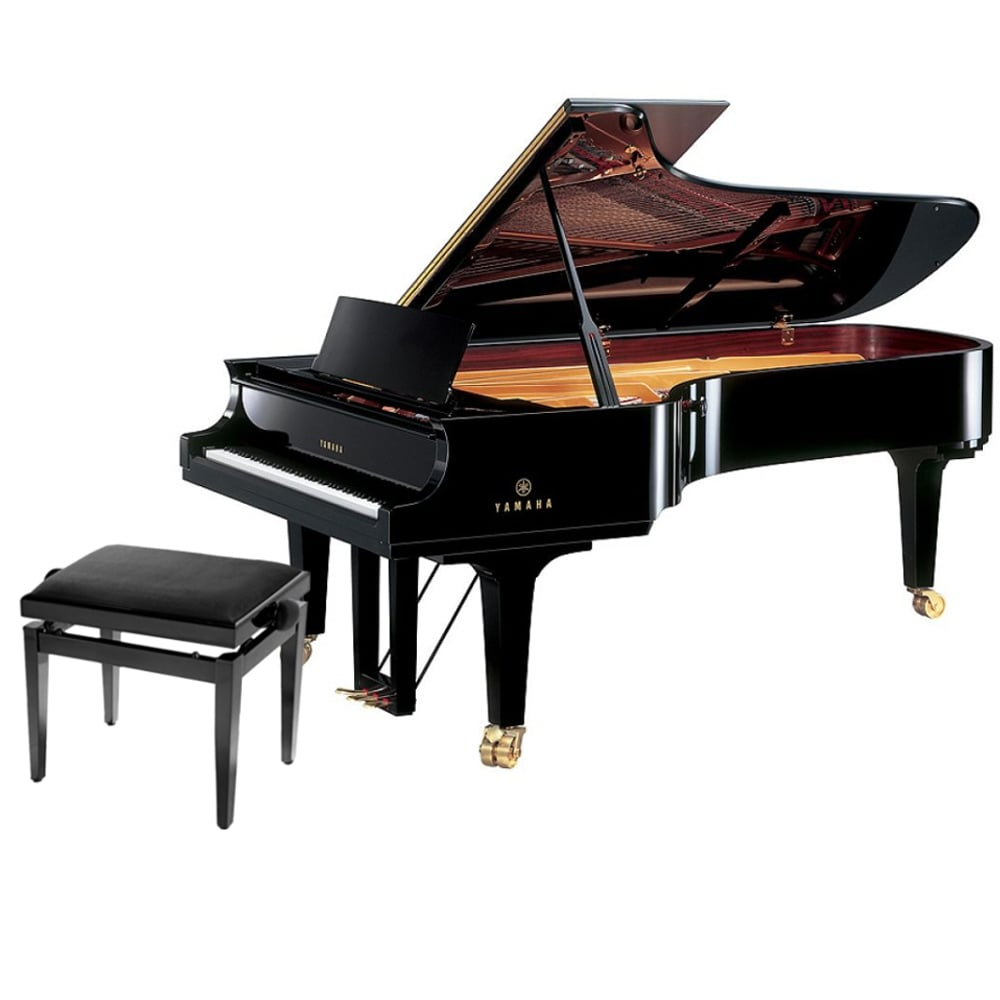GrandPiano: (140, 96, 1000, 535)
